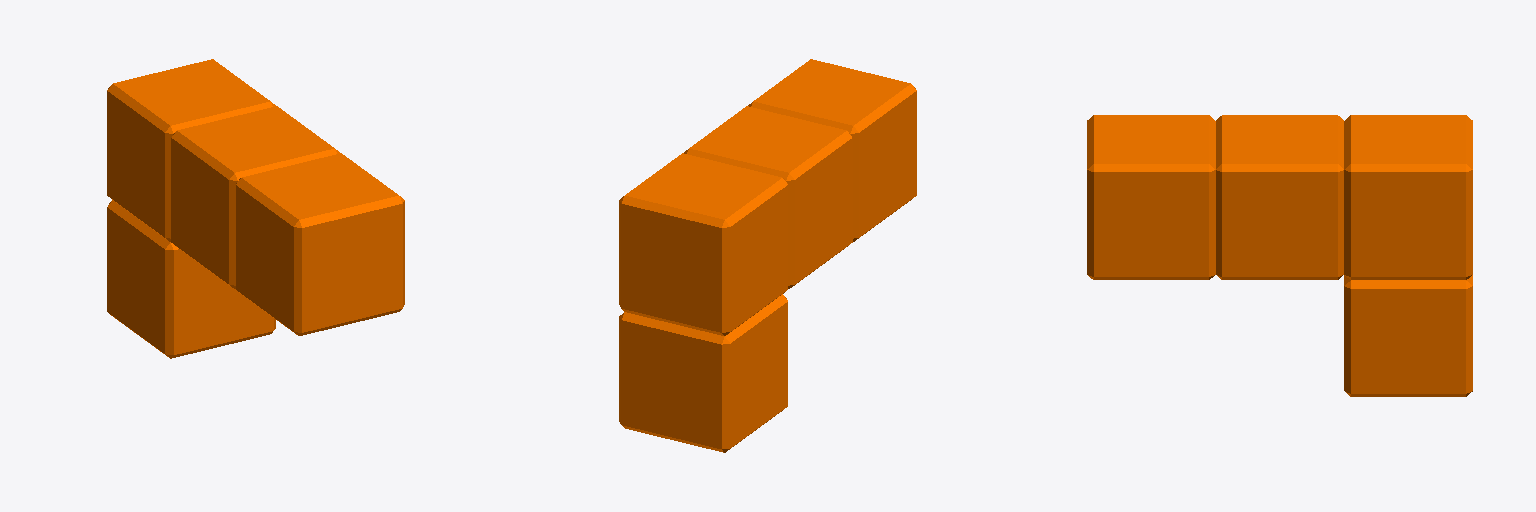
3 renders of one model, left to right at view 1: azimuth 30°, elevation 25°; view 2: azimuth 150°, elevation 25°; view 3: azimuth 270°, elevation 25°, orthographic.
Parts seen in each view (by area): view 1: L-Block.Reverse_Cube.024; view 2: L-Block.Reverse_Cube.024; view 3: L-Block.Reverse_Cube.024.
Boxes of the visible parts, x1,y1,x2,y2 form: L-Block.Reverse_Cube.024: [107, 59, 404, 358]; L-Block.Reverse_Cube.024: [619, 59, 916, 452]; L-Block.Reverse_Cube.024: [1087, 115, 1472, 396].
Bounding box in the file's own units: 2 × 4 × 6.
1 materials, 1 textured.